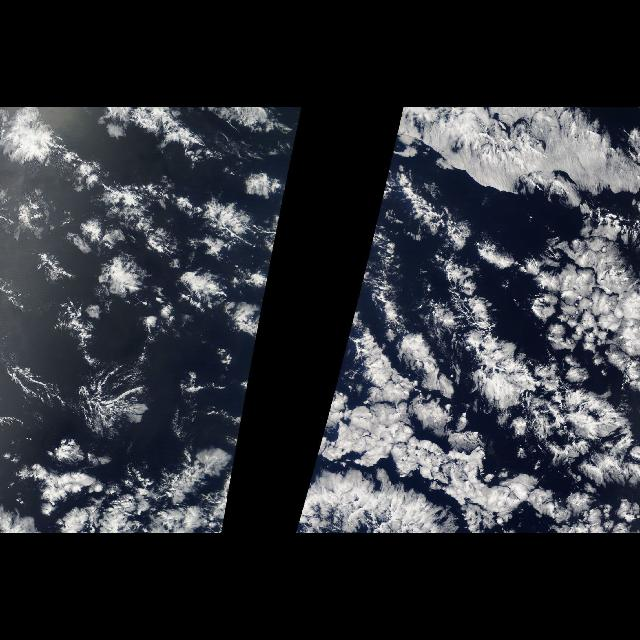Fish: (370, 175, 592, 471)
Flower: (303, 138, 633, 508), (3, 112, 296, 508)
